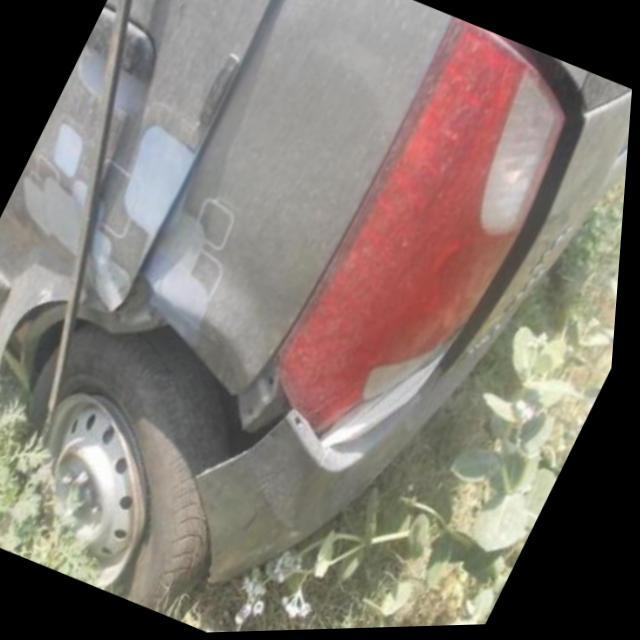dent: (0, 148, 138, 380)
no part: (0, 278, 299, 489)
